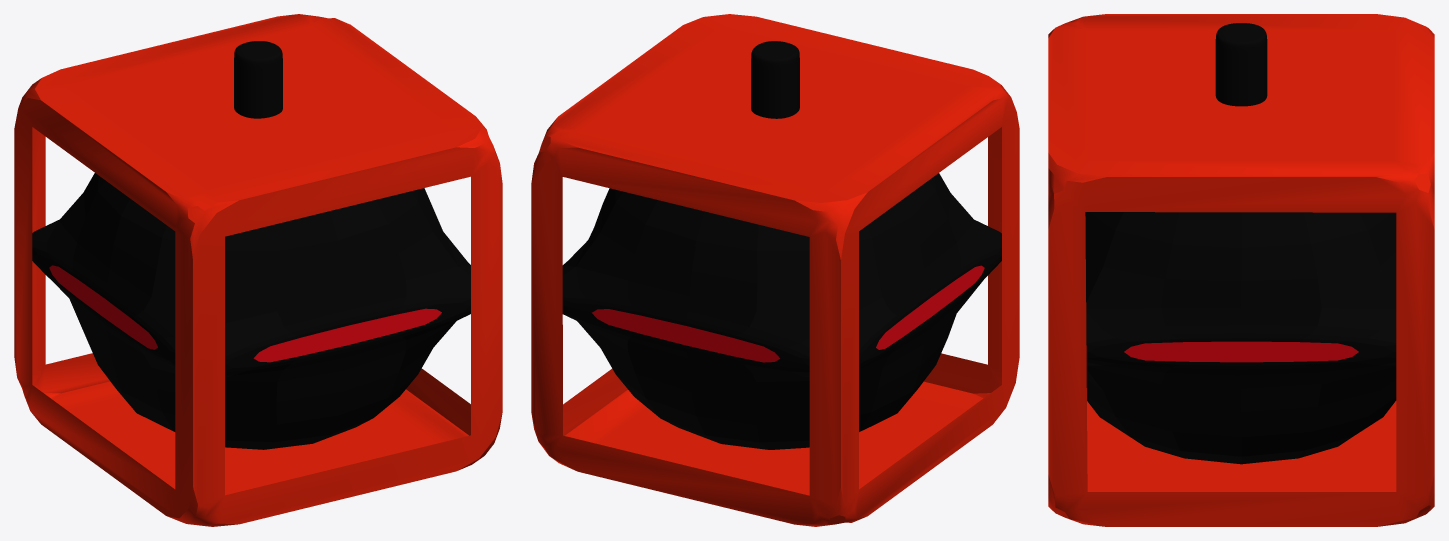
Rendered from mass_damage.glb.
The picture shows the model from 3 angles, left to right: view 1: azimuth 30°, elevation 25°; view 2: azimuth 150°, elevation 25°; view 3: azimuth 270°, elevation 25°; orthographic projection. The views are drawn at different scales.
Parts seen in each view (by area): view 1: Cube.001, Cube, Cube.002; view 2: Cube.001, Cube, Cube.002; view 3: Cube.001, Cube, Cube.002.
Part boxes in pixels (x1,y1,x2,y2): Cube.001: (14,14,502,526); Cube: (32,173,470,449); Cube.002: (234,41,282,118); Cube.001: (531,14,1019,526); Cube: (562,173,1001,449); Cube.002: (751,41,799,118); Cube.001: (1048,14,1434,526); Cube: (1085,212,1396,464); Cube.002: (1215,23,1267,106).
Size of the model in its own units: 2 by 2.36 by 2.
